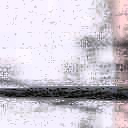crackTip: (1, 85, 128, 105)
